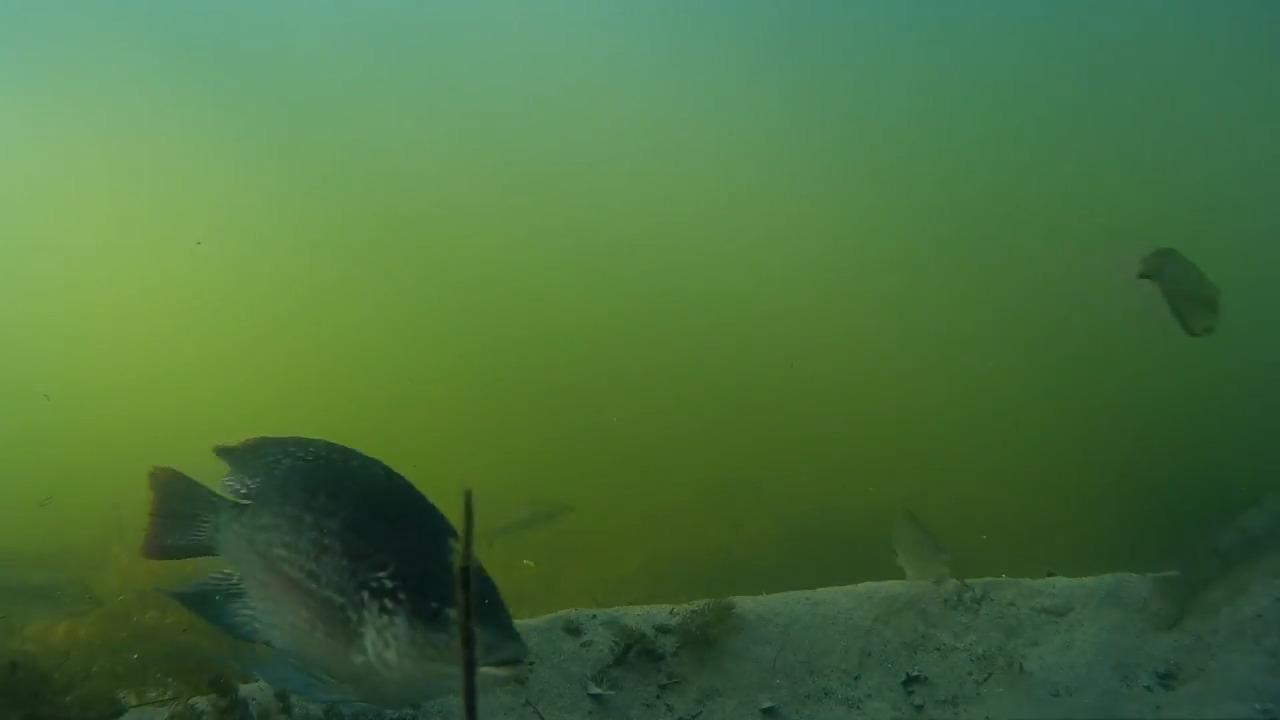Tilapia: (127, 414, 541, 714), (1141, 484, 1280, 682), (1134, 234, 1245, 366), (864, 490, 981, 606)
